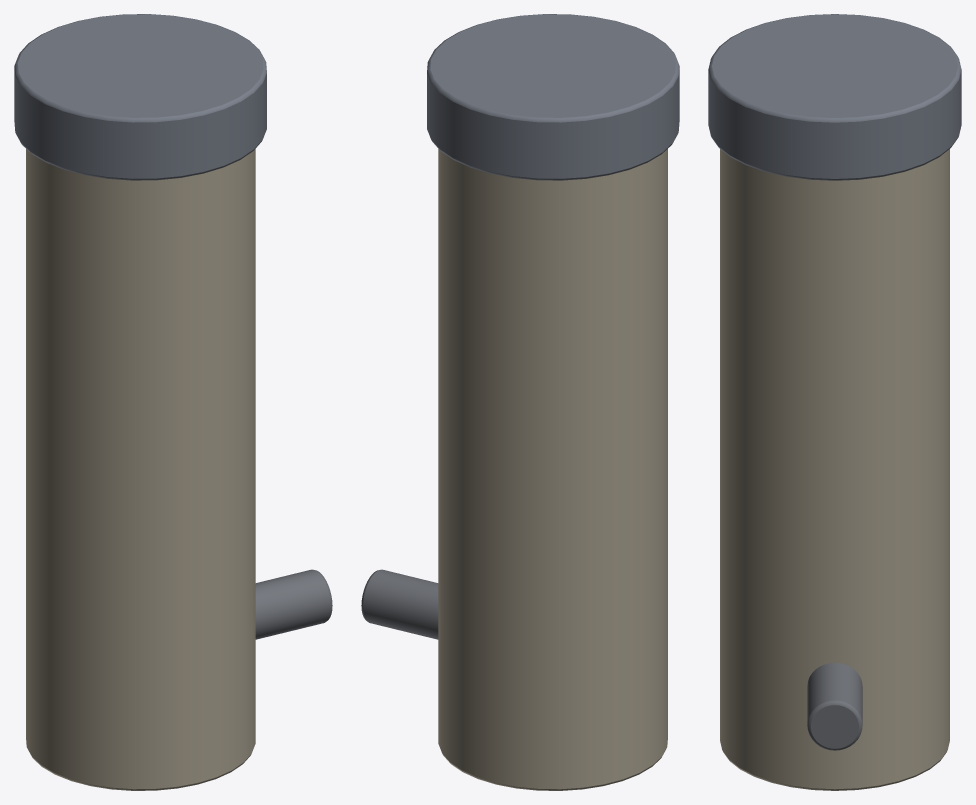
Rendered from SM_EQP_WATER_FILTER.fbx.
3 renders of one model, left to right at view 1: azimuth 30°, elevation 25°; view 2: azimuth 150°, elevation 25°; view 3: azimuth 270°, elevation 25°, orthographic.
Parts seen in each view (by area): view 1: SM_EQP_WATER_FILTER; view 2: SM_EQP_WATER_FILTER; view 3: SM_EQP_WATER_FILTER.
Boxes of the visible parts, x1=… form: SM_EQP_WATER_FILTER: x1=14, y1=14, x2=332, y2=790; SM_EQP_WATER_FILTER: x1=361, y1=14, x2=679, y2=790; SM_EQP_WATER_FILTER: x1=708, y1=14, x2=961, y2=790.
Size of what is drawn, in the model's own units: 0.145 by 0.325 by 0.11.
